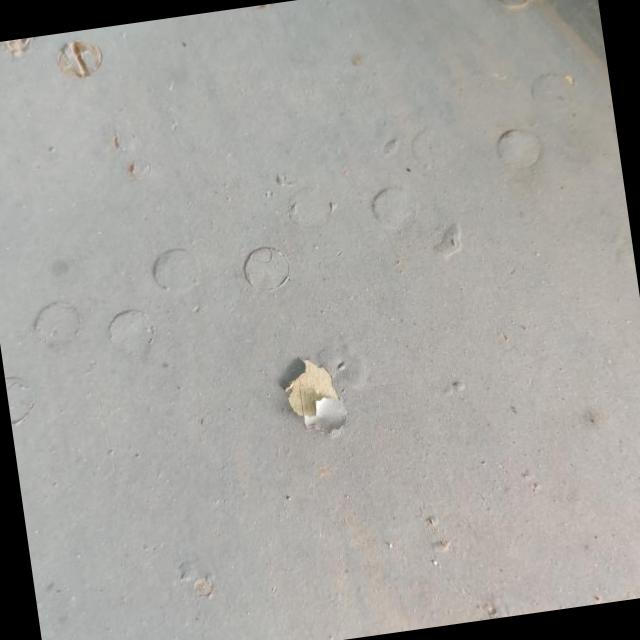Paint-off: (275, 357, 353, 442)
